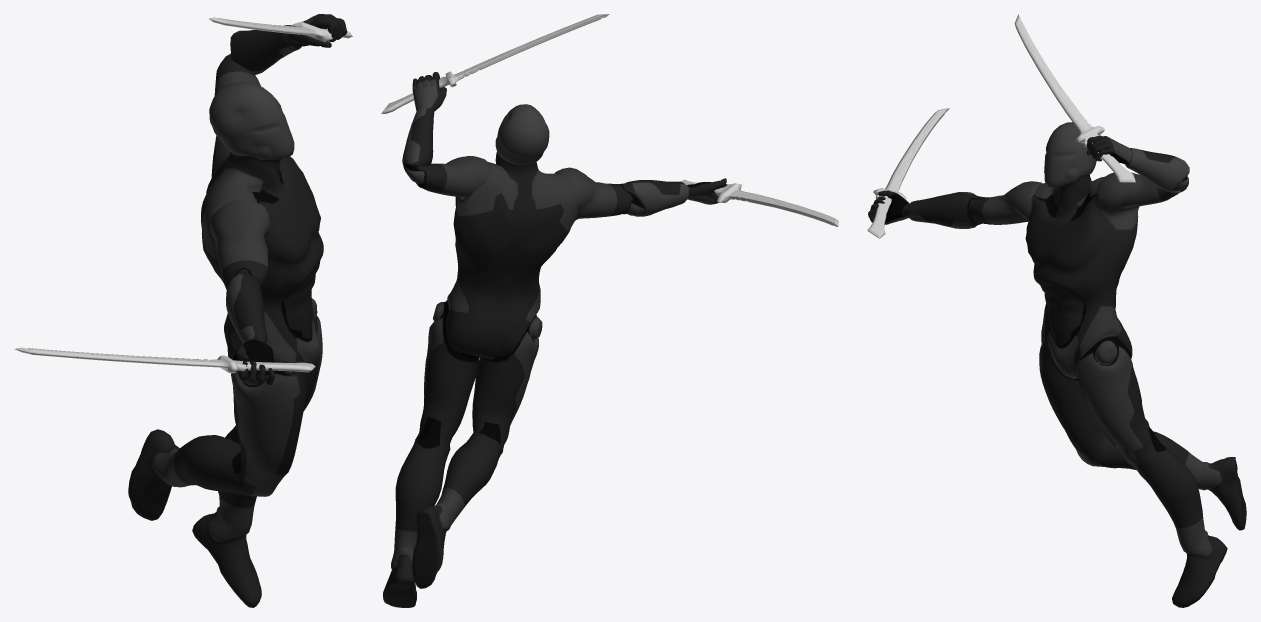
3 views of the same model, side by side, from view 1: azimuth 30°, elevation 25°; view 2: azimuth 150°, elevation 25°; view 3: azimuth 270°, elevation 25° (orthographic). The views are drawn at different scales.
Visible parts, largest first — view 1: Cyborg_Ninja_Killer, Sword_l001, Sword_l; view 2: Cyborg_Ninja_Killer, Sword_l, Sword_l001; view 3: Cyborg_Ninja_Killer, Sword_l, Sword_l001.
Part boxes in pixels (box(x1,y1,x2,y2)): Cyborg_Ninja_Killer: box(128, 14, 347, 607); Sword_l001: box(14, 347, 315, 373); Sword_l: box(209, 17, 352, 41); Cyborg_Ninja_Killer: box(383, 72, 727, 607); Sword_l: box(381, 14, 609, 113); Sword_l001: box(680, 179, 838, 226); Cyborg_Ninja_Killer: box(868, 122, 1246, 607); Sword_l: box(1014, 14, 1135, 182); Sword_l001: box(867, 108, 949, 238).
Size of the model in its own units: 148 by 220 by 141.
